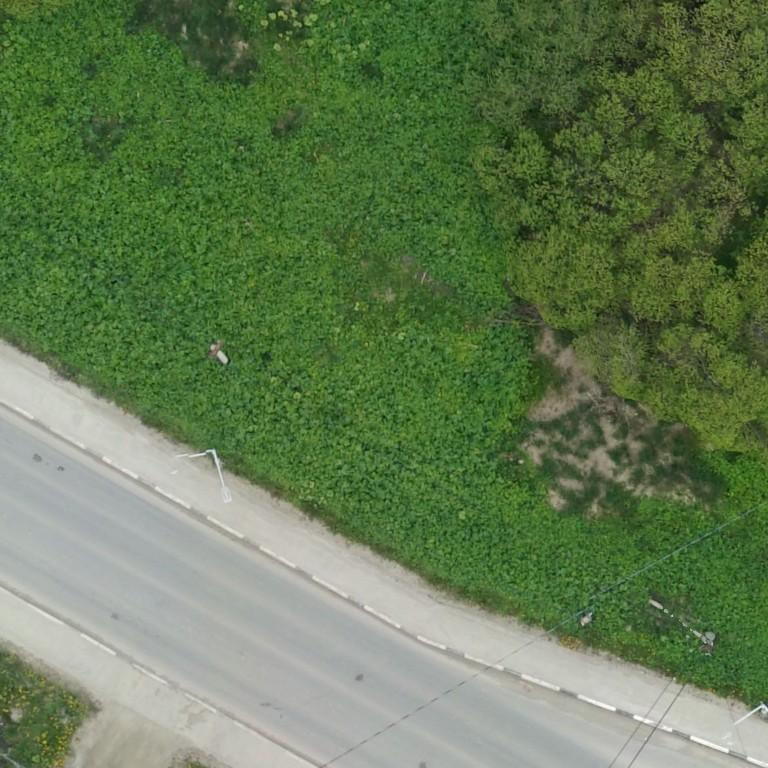hogweed: (0, 0, 767, 704)
